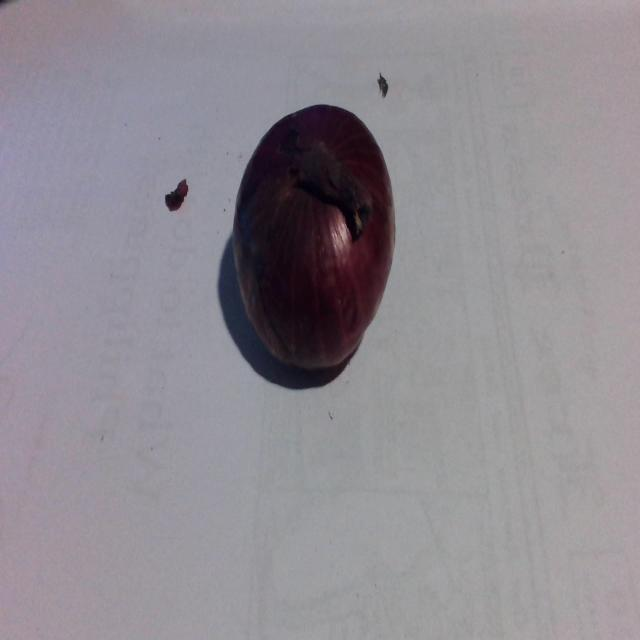onion: (221, 88, 410, 401)
